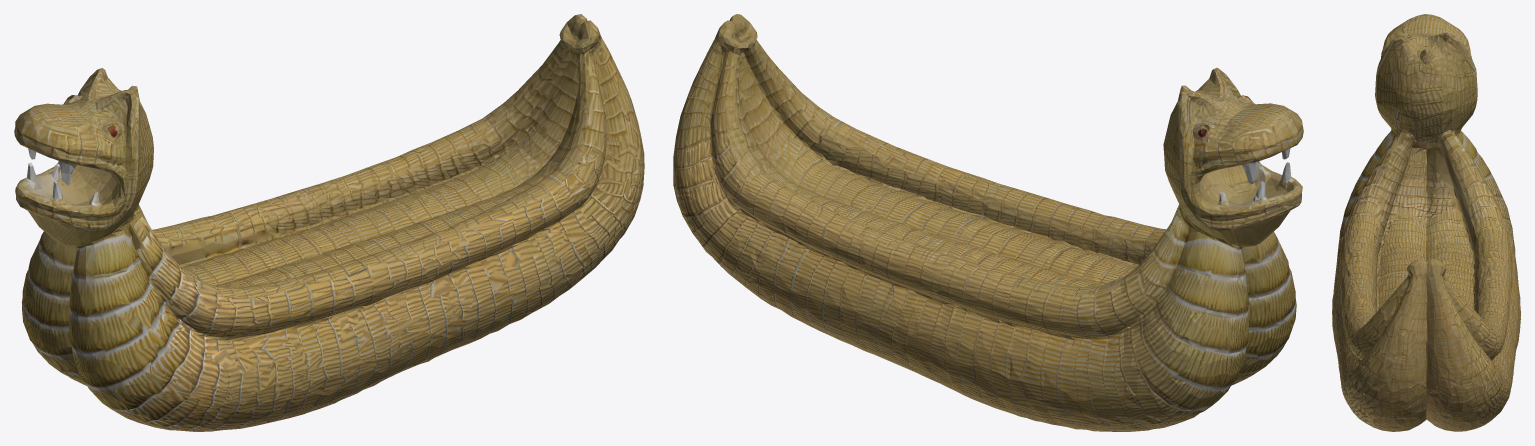
File: barco3.glb
3 renders of one model, left to right at view 1: azimuth 30°, elevation 25°; view 2: azimuth 150°, elevation 25°; view 3: azimuth 270°, elevation 25°, orthographic. The views are drawn at different scales.
Visible parts, largest first — view 1: material; view 2: material; view 3: material.
Boxes of the visible parts, x1=… form: material: x1=14, y1=14, x2=644, y2=431; material: x1=673, y1=14, x2=1303, y2=431; material: x1=1332, y1=14, x2=1520, y2=431.
Bounding box in the file's own units: 7.62 × 4.26 × 2.58.
Materials: 1 (1 with a texture image).
